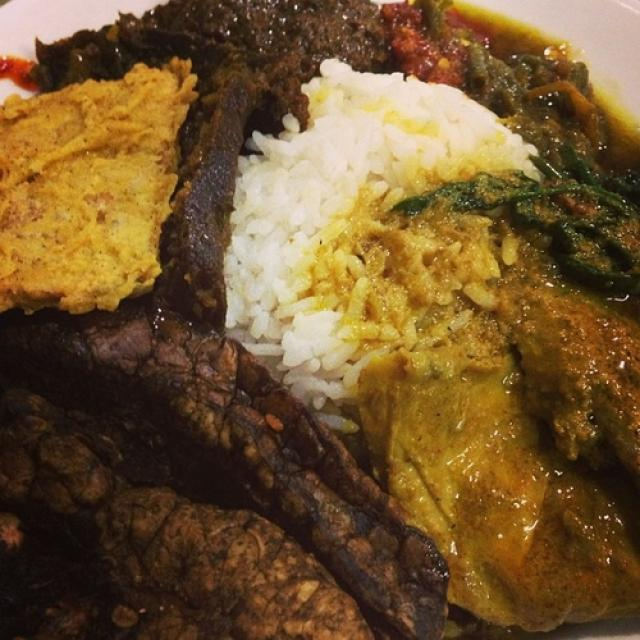米饭主食: (11, 8, 624, 628)
